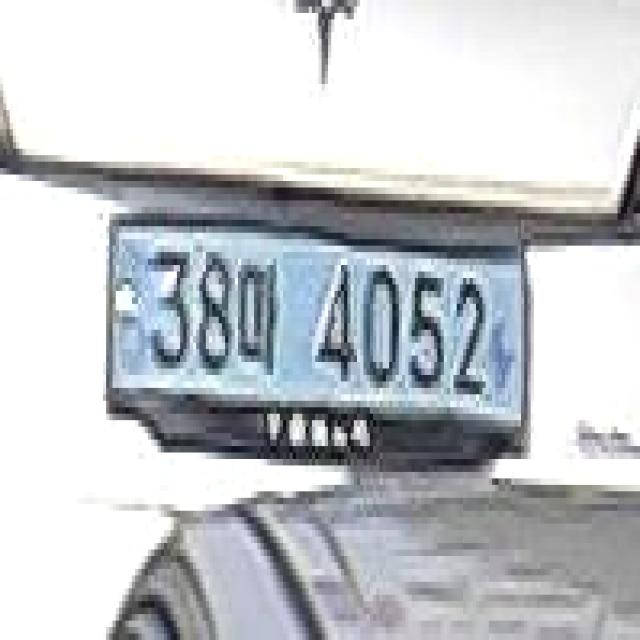EV_plate: (100, 192, 538, 484)
